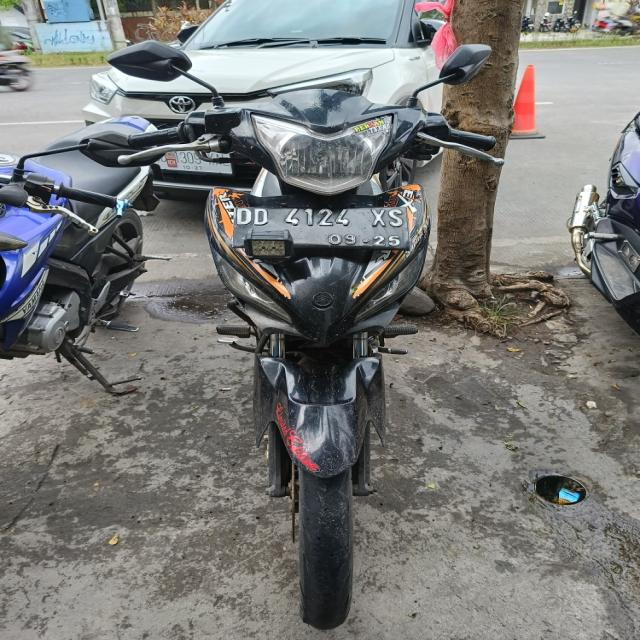plates: (235, 197, 408, 256)
